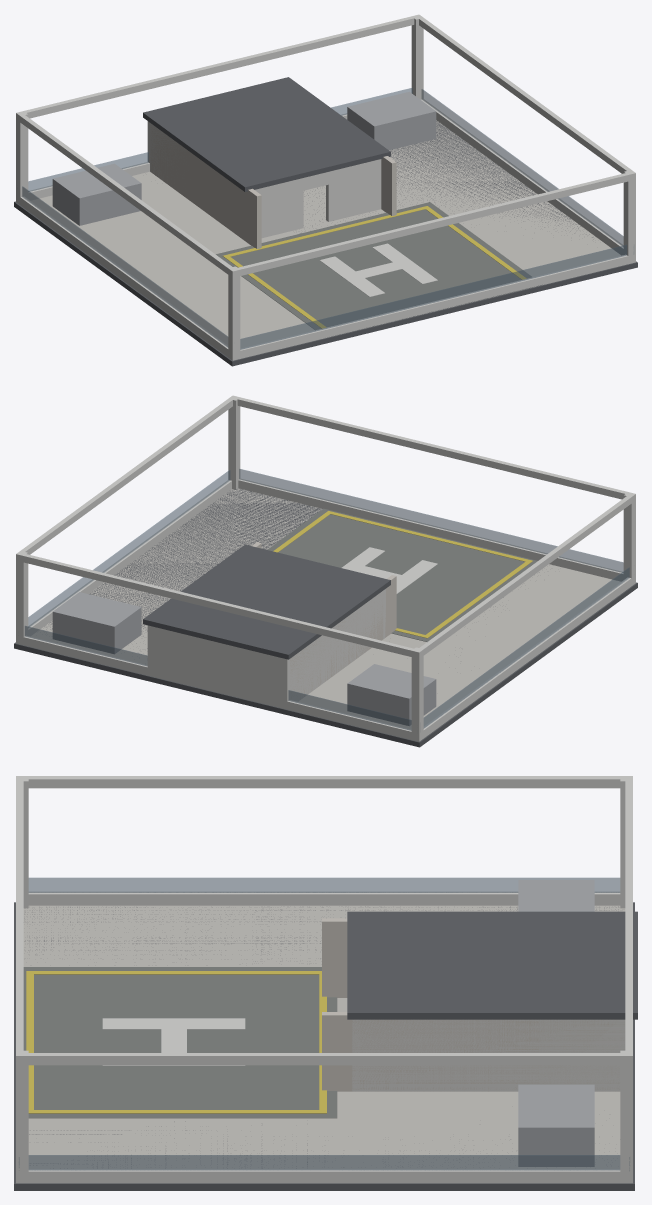
Rendered from condo-roof-a.skyline-v2.lod0.glb.
3 views of the same model, one above another, from view 1: azimuth 30°, elevation 25°; view 2: azimuth 150°, elevation 25°; view 3: azimuth 270°, elevation 25° (orthographic). The views are drawn at different scales.
Parts seen in each view (by area): view 1: condo-roof-a; view 2: condo-roof-a; view 3: condo-roof-a.
Part boxes in pixels (x1,y1,x2,y2): condo-roof-a: [14, 14, 637, 366]; condo-roof-a: [14, 395, 637, 747]; condo-roof-a: [14, 776, 637, 1190].
Bounding box in the file's own units: 26.16 × 5.8 × 24.48.
